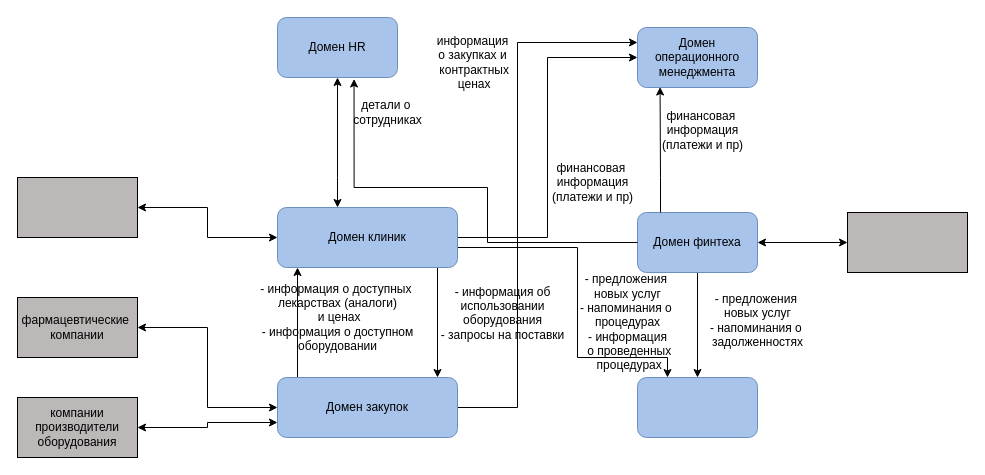
This 985x475 diagram has some shape labels left out. Each missing label, with the centre of its shape:
Банковское отделение: (x=907, y=242)
Домен управления клиентами: (x=697, y=407)
клиники: (x=77, y=207)
